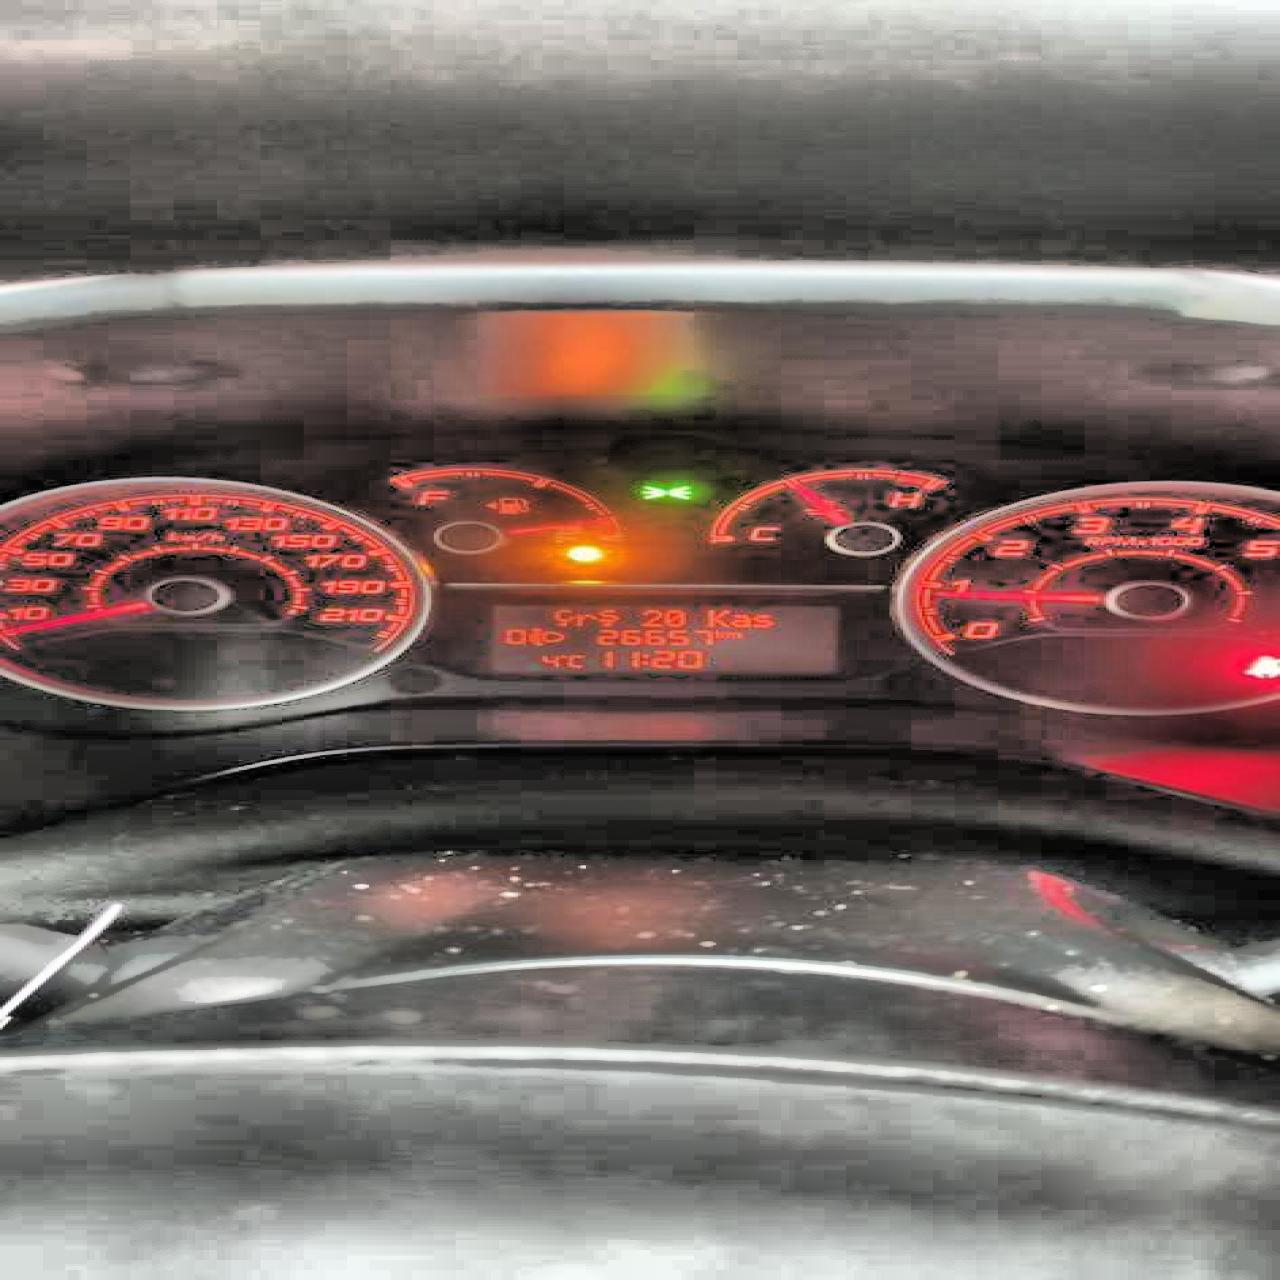0: (675, 648, 700, 667), (662, 607, 683, 626), (505, 627, 526, 644)
1: (602, 649, 613, 669), (629, 648, 636, 667)
2: (648, 648, 673, 667), (638, 607, 659, 625), (594, 628, 615, 644)
4: (539, 654, 558, 667)
5: (665, 627, 689, 645)
6: (640, 627, 665, 644), (618, 627, 640, 644)
7: (692, 629, 713, 645)
X: (702, 607, 729, 626), (547, 606, 572, 626), (597, 607, 618, 625), (564, 653, 586, 668), (572, 611, 594, 625), (730, 613, 751, 627), (751, 613, 772, 627), (710, 627, 724, 638), (723, 631, 741, 638), (640, 651, 648, 665)
odometer: (475, 597, 849, 678)
